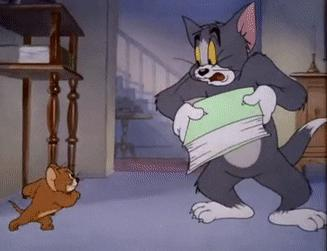jerry: (6, 161, 82, 232)
